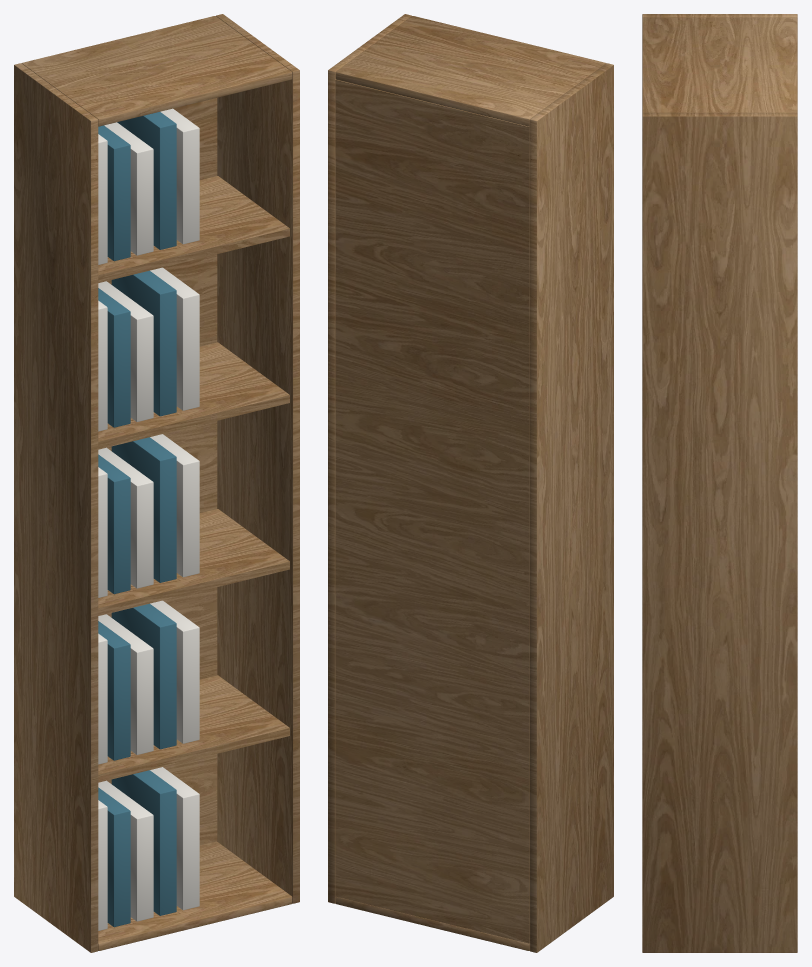
The model's file is libreria_estrecha_base.glb.
3 renders of one model, left to right at view 1: azimuth 30°, elevation 25°; view 2: azimuth 150°, elevation 25°; view 3: azimuth 270°, elevation 25°, orthographic.
Visible parts, largest first — view 1: libreria_estrecha_base; view 2: libreria_estrecha_base; view 3: libreria_estrecha_base.
Part boxes in pixels (x1,y1,x2,y2): libreria_estrecha_base: (14, 14, 299, 952); libreria_estrecha_base: (328, 14, 613, 952); libreria_estrecha_base: (642, 14, 797, 952).
Bounding box in the file's own units: 0.5001 × 1.9 × 0.3201.
4 materials, 1 textured.
